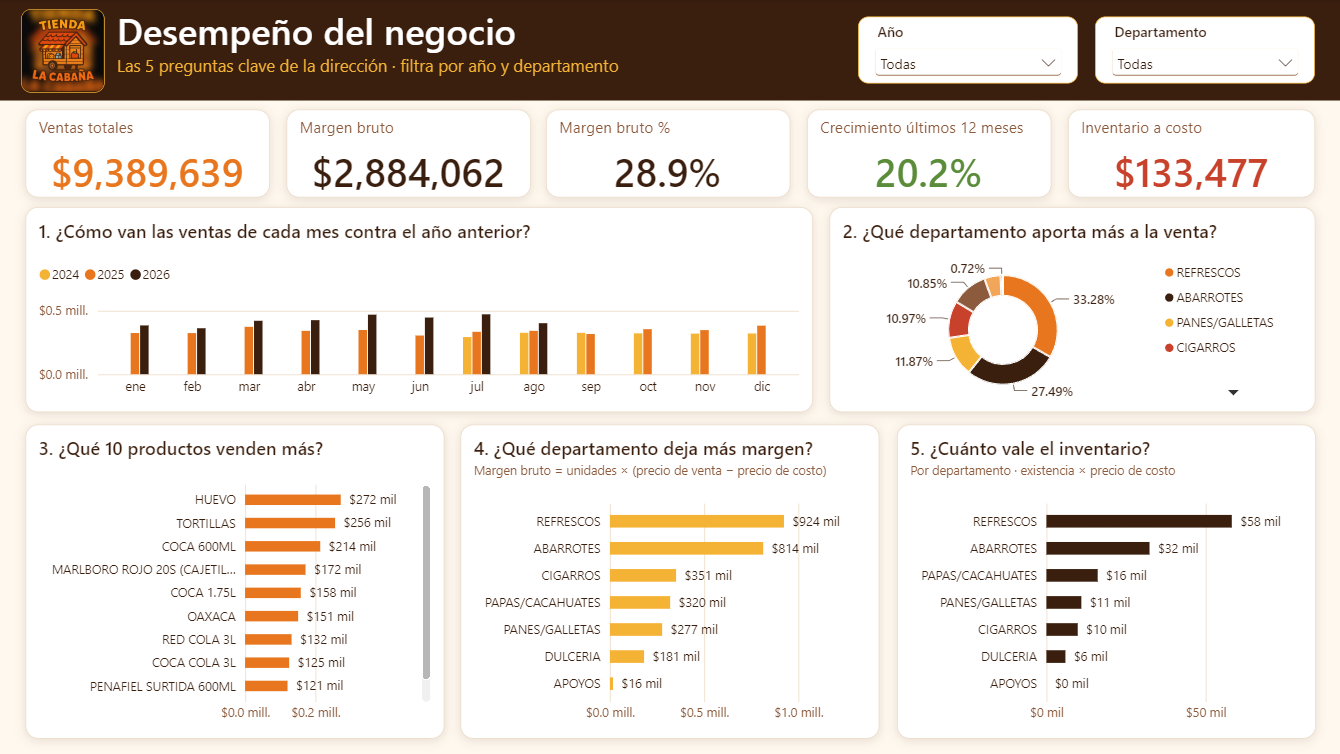

What the dashboard file says about the page in this screenshot:
{"tool":"powerbi","page":{"name":"Desempeño del negocio","canvas":[1280,720],"ordinal":1},"visuals":[{"type":"textbox","box":[0,0,1280,96],"z":0},{"type":"image","box":[20,8,80,80],"z":1000},{"type":"textbox","box":[112,6,680,86],"z":2000},{"type":"slicer","fields":{"Values":["Calendario.Año"]},"box":[820,16,210,64],"z":2500},{"type":"slicer","fields":{"Values":["tienda productos.departamento"]},"box":[1046,16,210,64],"z":2600},{"type":"card","title":"Ventas totales","fields":{"Values":["tienda ventas.Ventas Totales"]},"box":[24,104,233,84],"z":3000},{"type":"card","title":"Margen bruto","fields":{"Values":["tienda ventas.Margen Bruto"]},"box":[273,104,233,84],"z":3100},{"type":"card","title":"Margen bruto %","fields":{"Values":["tienda ventas.Margen %"]},"box":[522,104,233,84],"z":3200},{"type":"card","title":"Crecimiento últimos 12 meses","fields":{"Values":["tienda ventas.Crecimiento Anual"]},"box":[771,104,233,84],"z":3300},{"type":"card","title":"Inventario a costo","fields":{"Values":["tienda inventario.Valor Inventario a Costo"]},"box":[1020,104,236,84],"z":3400},{"type":"clusteredColumnChart","title":"1. ¿Cómo van las ventas de cada mes contra el año anterior?","fields":{"Category":["Calendario.Mes"],"Series":["Calendario.Año"],"Y":["tienda ventas.Ventas Totales"]},"box":[24,198,752,196],"z":4000},{"type":"donutChart","title":"2. ¿Qué departamento aporta más a la venta?","fields":{"Category":["tienda productos.departamento"],"Y":["tienda ventas.Ventas Totales"]},"box":[792,198,464,196],"z":5000},{"type":"clusteredBarChart","title":"3. ¿Qué 10 productos venden más?","fields":{"Category":["tienda productos.nombre_producto"],"Y":["tienda ventas.Ventas Top 10"]},"box":[24,406,400,300],"z":6000},{"type":"clusteredBarChart","title":"4. ¿Qué departamento deja más margen?","fields":{"Category":["tienda productos.departamento"],"Y":["tienda ventas.Margen Bruto"]},"box":[440,406,400,300],"z":7000},{"type":"clusteredBarChart","title":"5. ¿Cuánto vale el inventario?","fields":{"Category":["tienda productos.departamento"],"Y":["tienda inventario.Valor Inventario a Costo"]},"box":[856,406,400,300],"z":8000}]}

Visuals, with their boxes in screenshot pixels (x1, y1, x2, y2), scaled from the page's 1280x720 canvas onto the 1340x754 screenshot:
textbox: bbox=(0, 0, 1339, 101)
image: bbox=(21, 8, 105, 92)
textbox: bbox=(117, 6, 829, 96)
slicer - Calendario.Año: bbox=(858, 17, 1078, 84)
slicer - tienda productos.departamento: bbox=(1095, 17, 1315, 84)
"Ventas totales" card: bbox=(25, 109, 269, 197)
"Margen bruto" card: bbox=(286, 109, 530, 197)
"Margen bruto %" card: bbox=(546, 109, 790, 197)
"Crecimiento últimos 12 meses" card: bbox=(807, 109, 1051, 197)
"Inventario a costo" card: bbox=(1068, 109, 1315, 197)
"1. ¿Cómo van las ventas de cada mes contra el año anterior?" clusteredColumnChart: bbox=(25, 207, 812, 413)
"2. ¿Qué departamento aporta más a la venta?" donutChart: bbox=(829, 207, 1315, 413)
"3. ¿Qué 10 productos venden más?" clusteredBarChart: bbox=(25, 425, 444, 739)
"4. ¿Qué departamento deja más margen?" clusteredBarChart: bbox=(461, 425, 879, 739)
"5. ¿Cuánto vale el inventario?" clusteredBarChart: bbox=(896, 425, 1315, 739)
